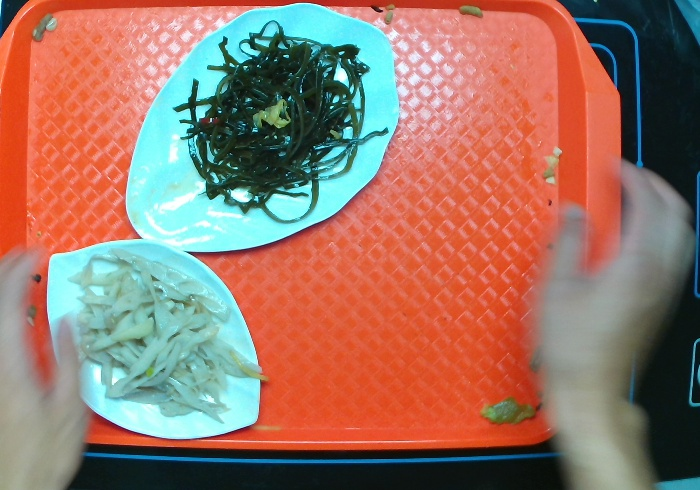RJxy-Bai_Ye_Pan: (123, 1, 400, 257)
RJxy-Da_Du_Pan: (47, 235, 262, 438)
